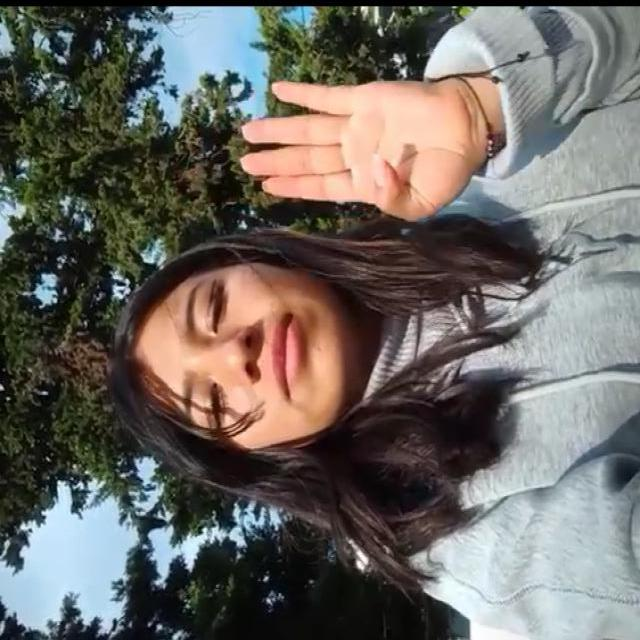B: (216, 53, 486, 231)
